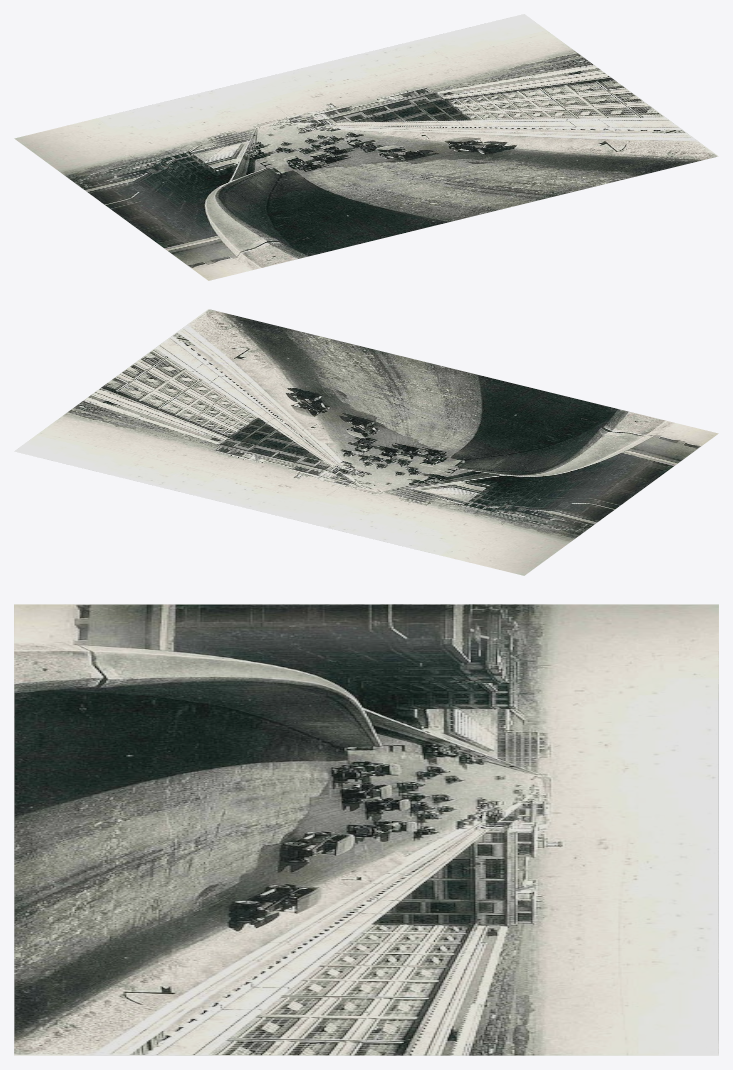
Rendered from fotomartina.obj.
The picture shows the model from 3 angles, top to bottom: view 1: azimuth 30°, elevation 25°; view 2: azimuth 150°, elevation 25°; view 3: azimuth 270°, elevation 25°; orthographic projection. The views are drawn at different scales.
Visible parts, largest first — view 1: Plane001; view 2: Plane001; view 3: Plane001.
Boxes of the visible parts, x1,y1,x2,y2 form: Plane001: [14, 14, 718, 280]; Plane001: [14, 309, 718, 575]; Plane001: [14, 604, 718, 1055].
Size of the model in its own units: 25.04 by 0 by 16.54.
